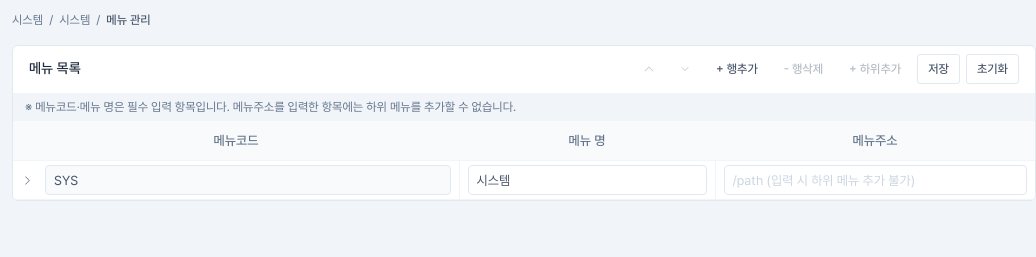
Scenario: SystemMenuPage › renders menu rows from the search API
This screenshot has width=1036, height=257.
Check: the field named "SYS 메뉴코드" holds "SYS", box [54,166,442,194]
What coordinates should you click on to do the following:
click the button named "펼치기"
I would click on:
 (27, 180)
Its box is [17,170,37,190].
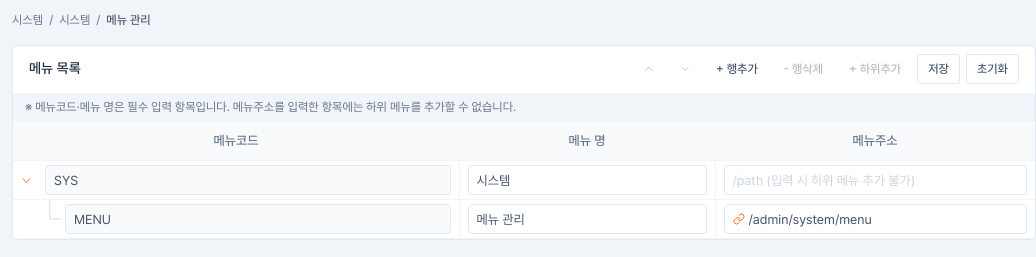
Check: the field named "MENU 메뉴명" holds "메뉴 관리", box [476,205,698,233]
